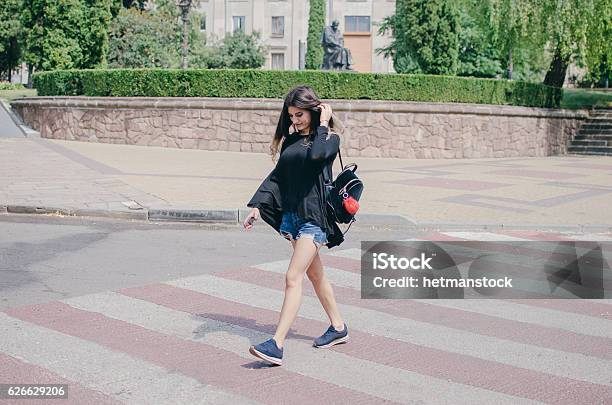person: (235, 84, 365, 368)
